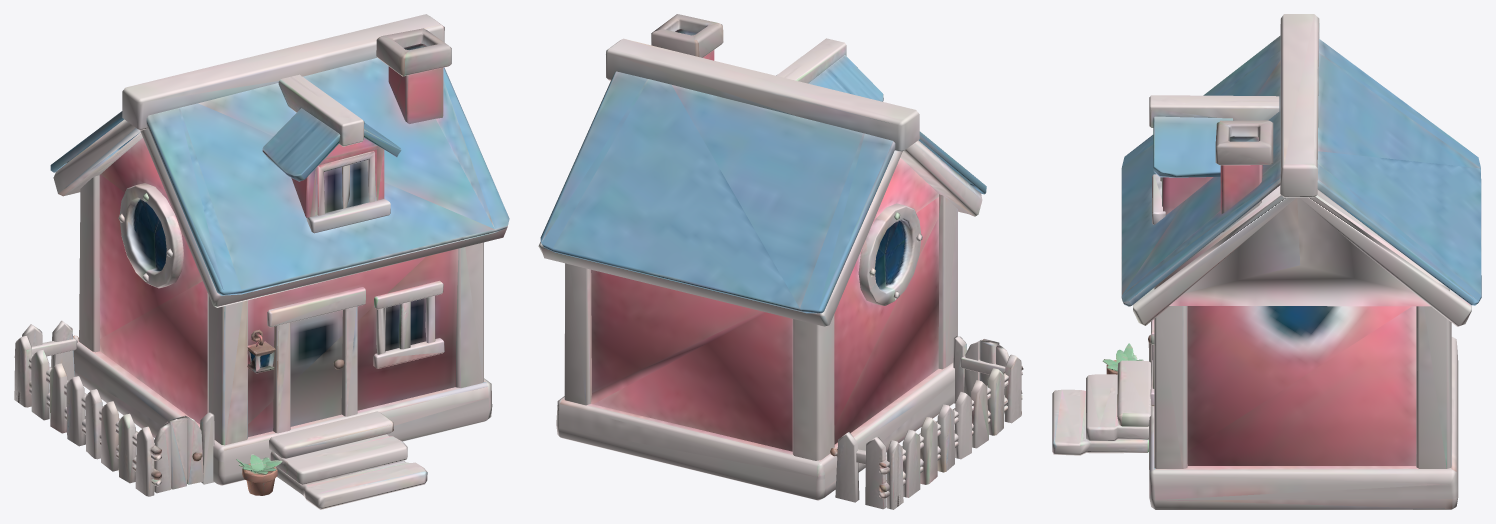
The model's file is beach_b.glb.
3 views of the same model, side by side, from view 1: azimuth 30°, elevation 25°; view 2: azimuth 150°, elevation 25°; view 3: azimuth 270°, elevation 25° (orthographic). The views are drawn at different scales.
Bounding box in the file's own units: 0.935 × 0.8921 × 0.9507.
1 material, 1 textured.
